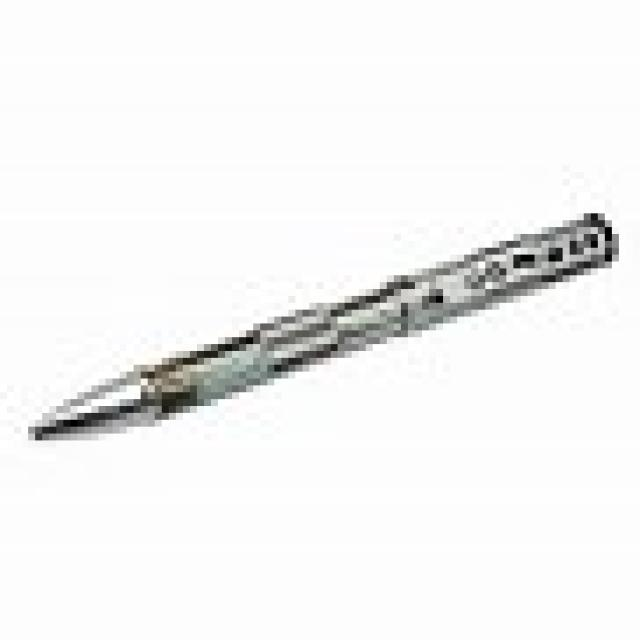pen: (21, 210, 619, 439)
